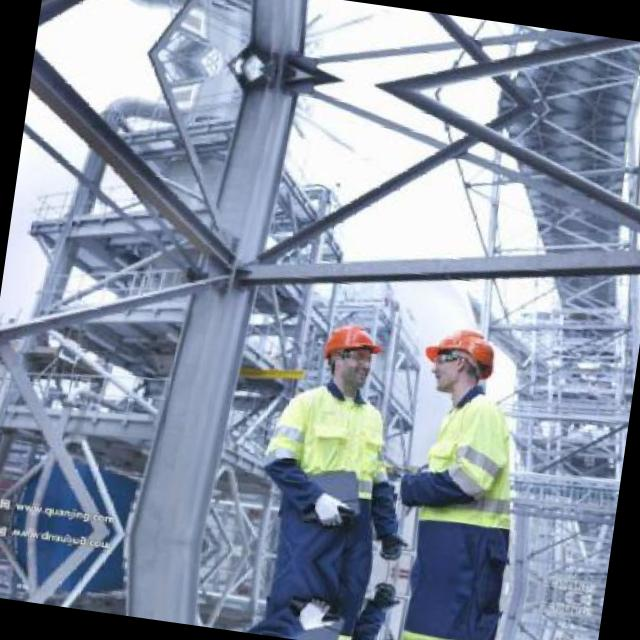helmet: (416, 316, 504, 402), (313, 309, 390, 392)
